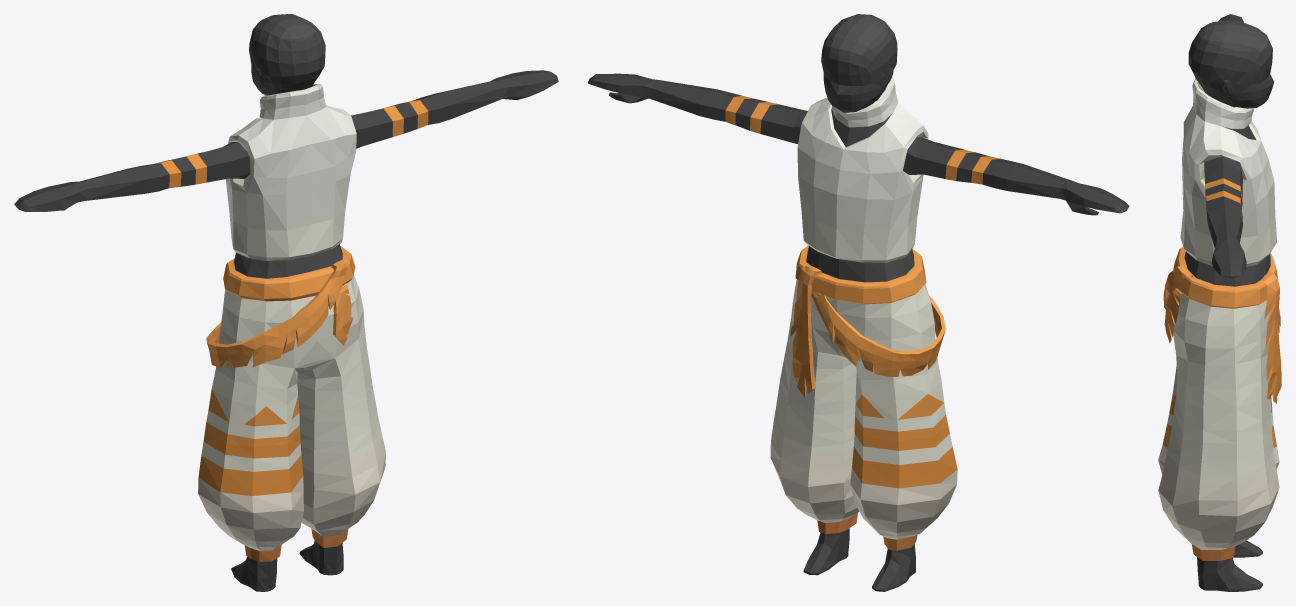
The model's file is CharSkyNPC_Body_AP16WhiteCropTop.glb.
3 views of the same model, side by side, from view 1: azimuth 30°, elevation 25°; view 2: azimuth 150°, elevation 25°; view 3: azimuth 270°, elevation 25° (orthographic).
Visible parts, largest first — view 1: CharSkyNPC_Body_AP16WhiteCropTop; view 2: CharSkyNPC_Body_AP16WhiteCropTop; view 3: CharSkyNPC_Body_AP16WhiteCropTop.
Part boxes in pixels (x1=…): CharSkyNPC_Body_AP16WhiteCropTop: x1=14, y1=14, x2=558, y2=591; CharSkyNPC_Body_AP16WhiteCropTop: x1=587, y1=14, x2=1129, y2=591; CharSkyNPC_Body_AP16WhiteCropTop: x1=1158, y1=14, x2=1281, y2=591.
Bounding box in the file's own units: 14.32 × 14.02 × 2.88.
Materials: 1 (1 with a texture image).
